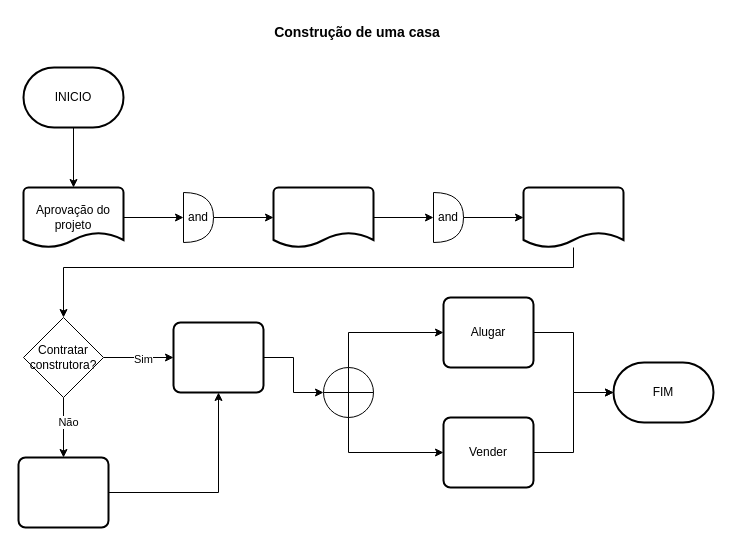
This 731x545 diagram has some shape labels left out. Each missing label, with the centre of its shape:
Construir: pixel 218 357
Contratar mestre de obras: pixel 63 492
Investimento: pixel 323 217
Terreno: pixel 573 217
